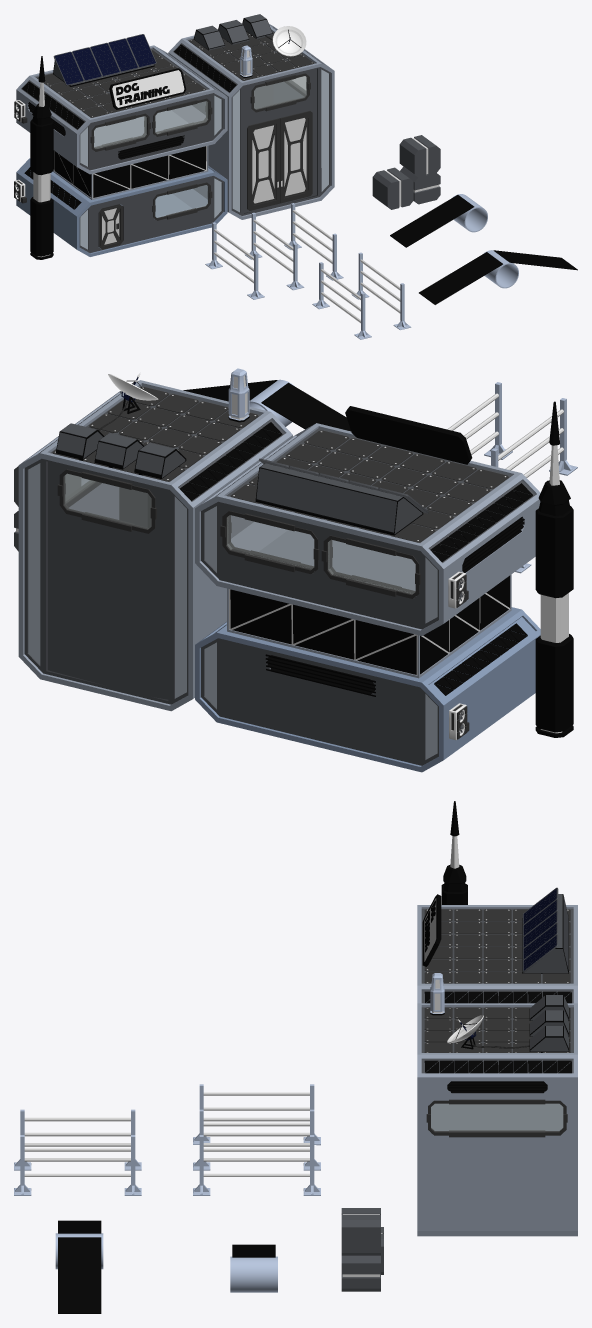
The model's file is Training level 3 Legit.fbx.
The picture shows the model from 3 angles, top to bottom: view 1: azimuth 30°, elevation 25°; view 2: azimuth 150°, elevation 25°; view 3: azimuth 270°, elevation 25°; orthographic projection. The views are drawn at different scales.
Visible parts, largest first — view 1: Cube.017, Cube.003, Cube.001, Cube.002; view 2: Cube.017; view 3: Cube.017.
Boxes of the visible parts, left/top/right/bottom form: Cube.017: left=14, top=14, right=577, bottom=339; Cube.003: left=247, top=118, right=279, bottom=210; Cube.001: left=279, top=111, right=312, bottom=203; Cube.002: left=98, top=204, right=123, bottom=249; Cube.017: left=14, top=368, right=577, bottom=772; Cube.017: left=14, top=801, right=577, bottom=1313.
Bounding box in the file's own units: 968 × 467 × 905.
